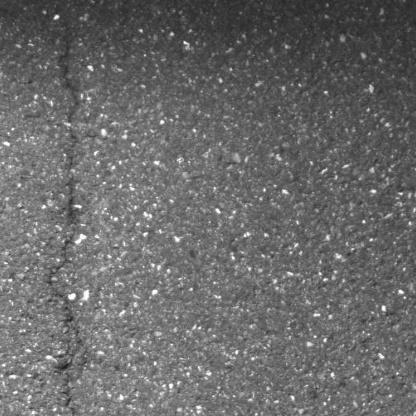Cracks: (47, 20, 87, 416)
